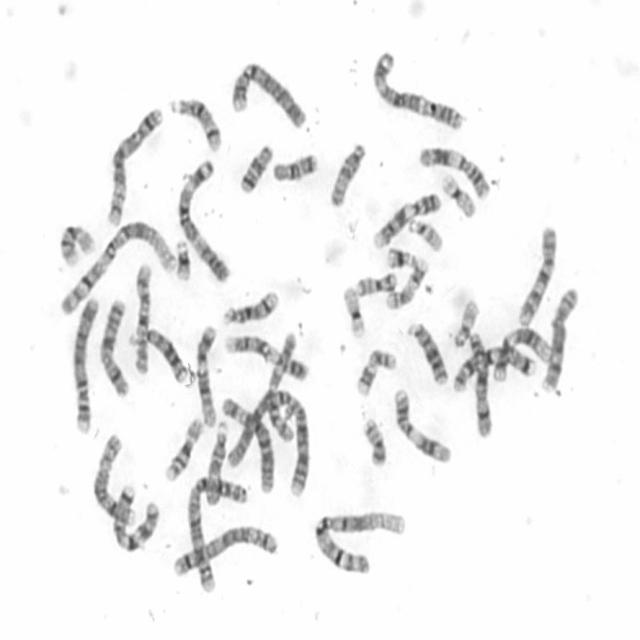A1: (57, 219, 176, 319), (311, 509, 408, 576)
A2: (184, 473, 251, 597), (266, 388, 312, 498)
A3: (370, 46, 467, 131), (176, 155, 234, 282)
B4: (230, 62, 308, 130), (70, 295, 100, 436)
B5: (105, 107, 164, 230), (170, 525, 279, 577)
C10: (516, 224, 558, 329), (131, 262, 156, 376)
C11: (392, 388, 455, 466), (416, 144, 492, 200)
C12: (491, 327, 554, 383), (194, 322, 218, 429)
C6: (226, 330, 297, 470), (220, 395, 276, 494)
C7: (451, 345, 538, 394), (110, 485, 160, 553)
C8: (93, 432, 138, 528), (541, 284, 580, 394)
C9: (370, 192, 442, 251), (224, 333, 310, 382)
D13: (127, 326, 188, 386), (406, 321, 449, 387)
D14: (168, 97, 222, 153), (222, 290, 281, 326)
D15: (324, 142, 367, 212), (204, 418, 230, 507)
E16: (162, 418, 205, 482), (58, 224, 96, 270)
E17: (386, 256, 430, 311), (352, 348, 398, 398)
E18: (239, 142, 274, 196), (272, 153, 318, 183)
F19: (438, 172, 477, 220), (341, 285, 367, 339)
F20: (361, 418, 389, 470), (355, 270, 397, 297)
G21: (175, 238, 192, 284), (385, 246, 416, 270)
G22: (454, 297, 482, 349), (406, 218, 444, 252)
X: (98, 297, 130, 398), (467, 331, 494, 438)
